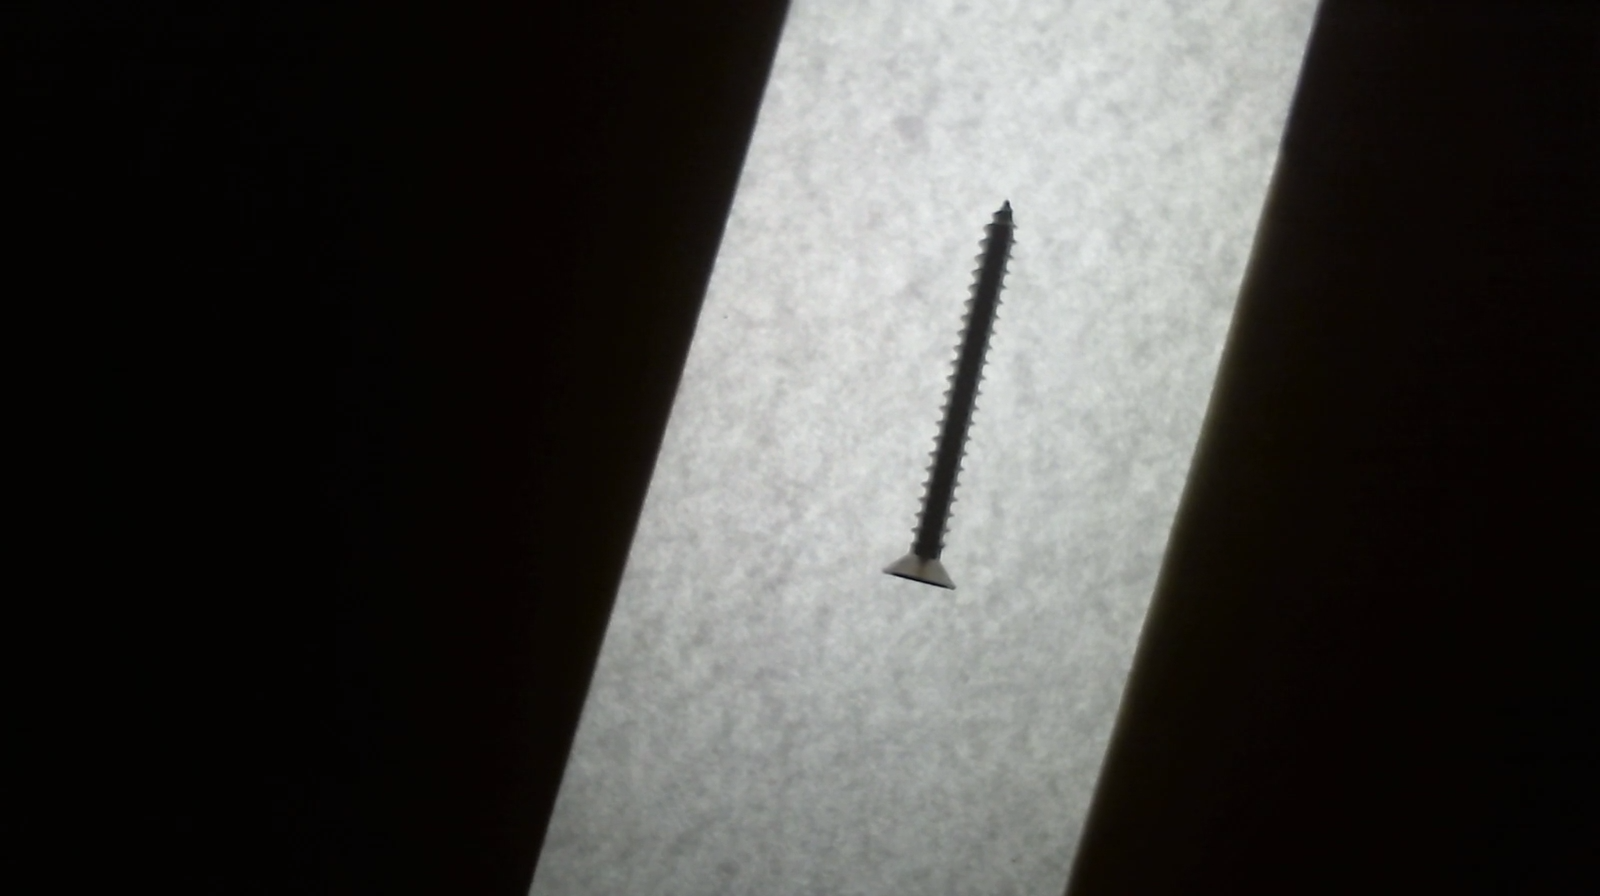S002: (870, 193, 1051, 597)
